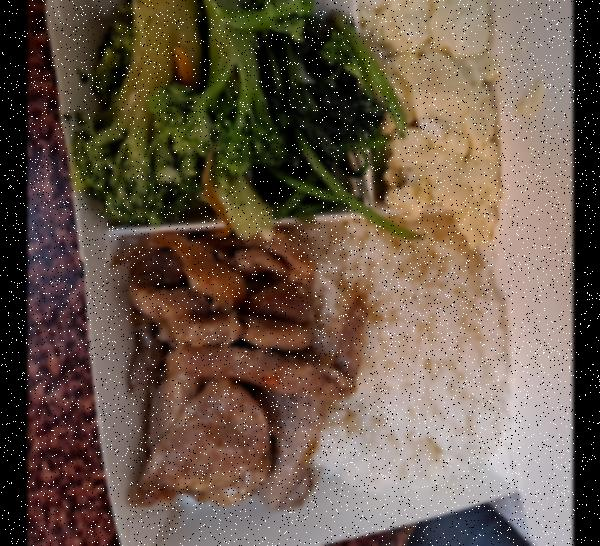box: (36, 0, 531, 546)
sauteed pork: (116, 231, 341, 510)
side dish: (69, 0, 286, 233), (364, 0, 500, 230), (259, 0, 390, 225)
white rice: (314, 215, 516, 490)
